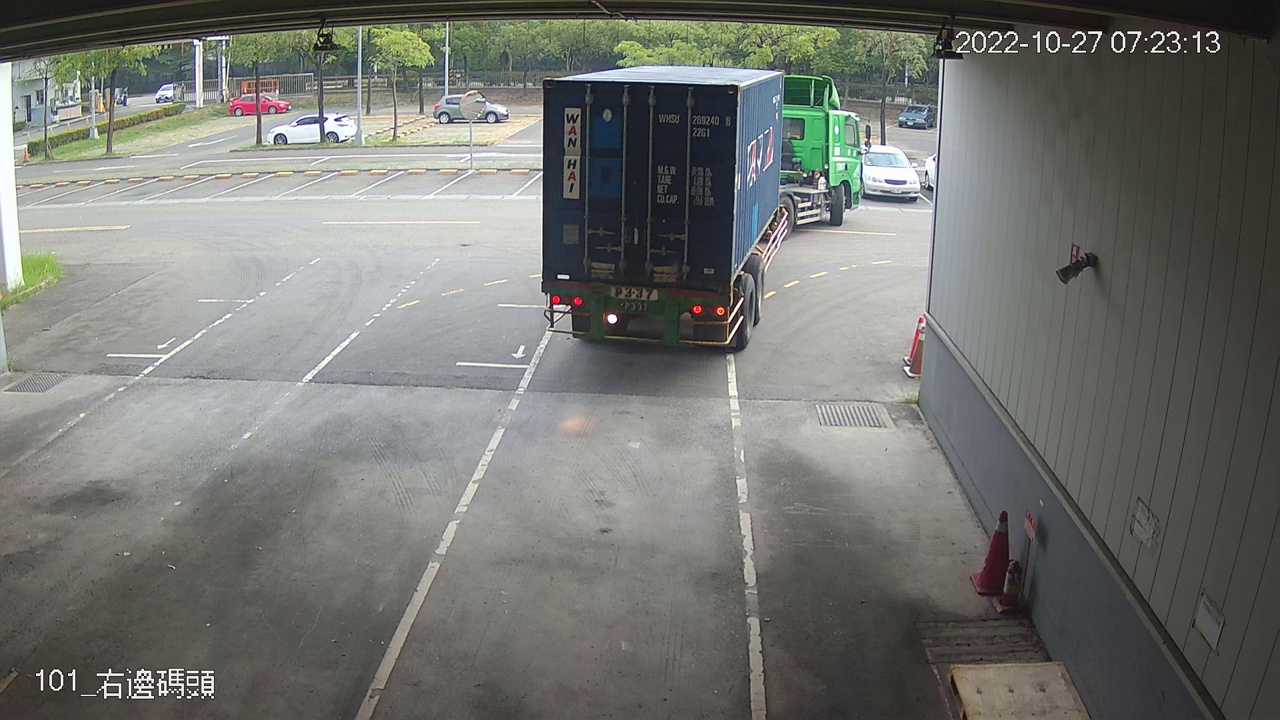container: (652, 108, 735, 142)
